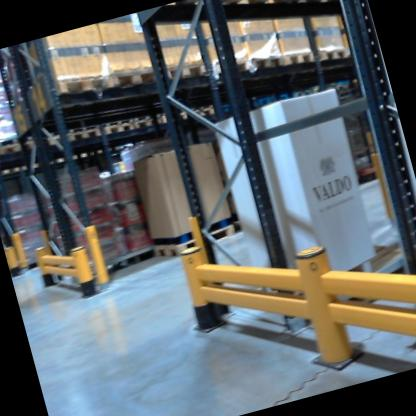pallet: (147, 216, 242, 268), (54, 61, 118, 105), (104, 52, 163, 91), (159, 51, 214, 92), (203, 47, 254, 87), (0, 132, 42, 163), (97, 116, 137, 143), (126, 110, 165, 135), (66, 119, 103, 145), (251, 49, 286, 76), (182, 99, 222, 122), (315, 39, 352, 62), (283, 47, 319, 70), (156, 103, 190, 127), (103, 132, 137, 156), (39, 127, 73, 150), (19, 152, 56, 173), (76, 141, 108, 160), (0, 163, 26, 179), (52, 149, 77, 165)
